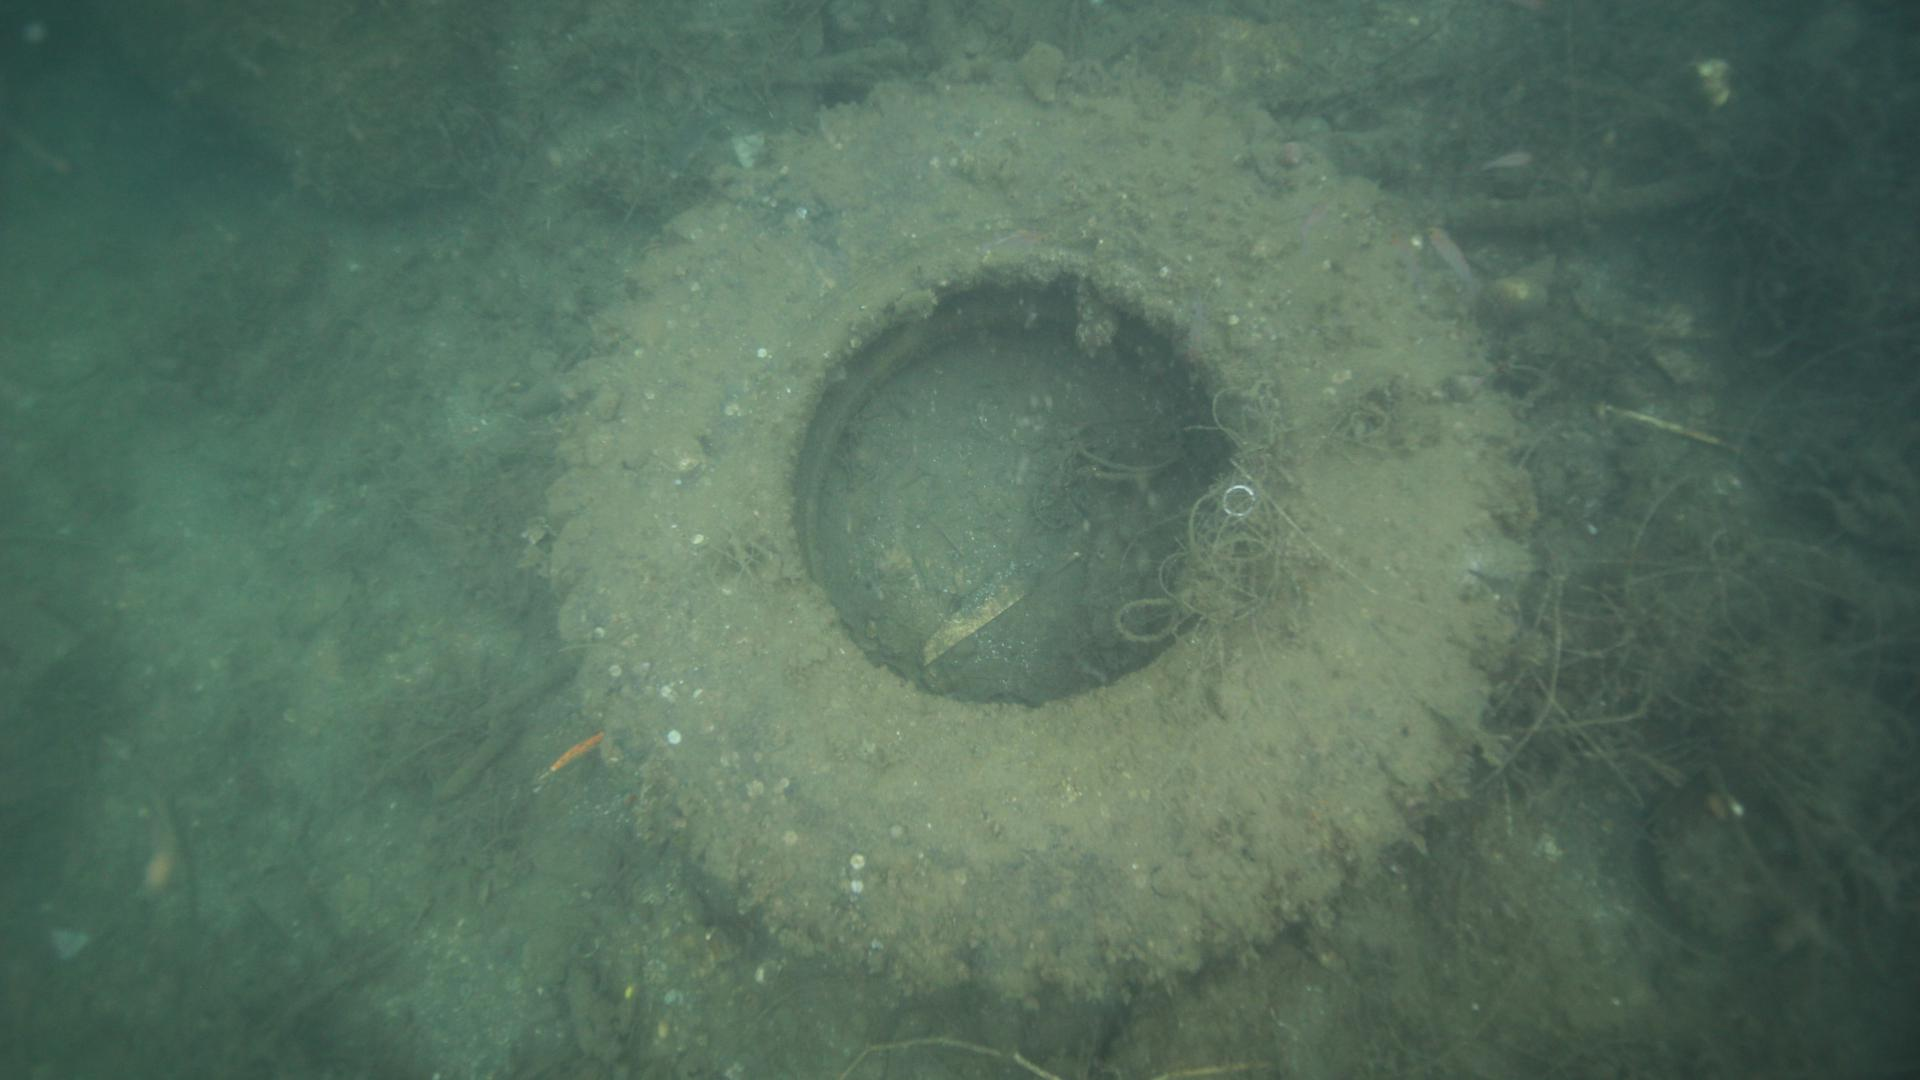tire: (538, 40, 1538, 1015)
